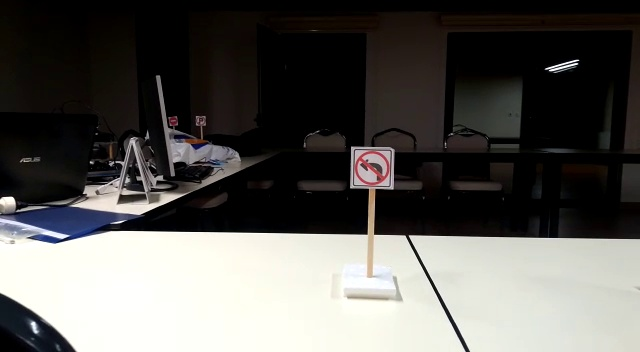sola_donulmez: (354, 148, 391, 187)
